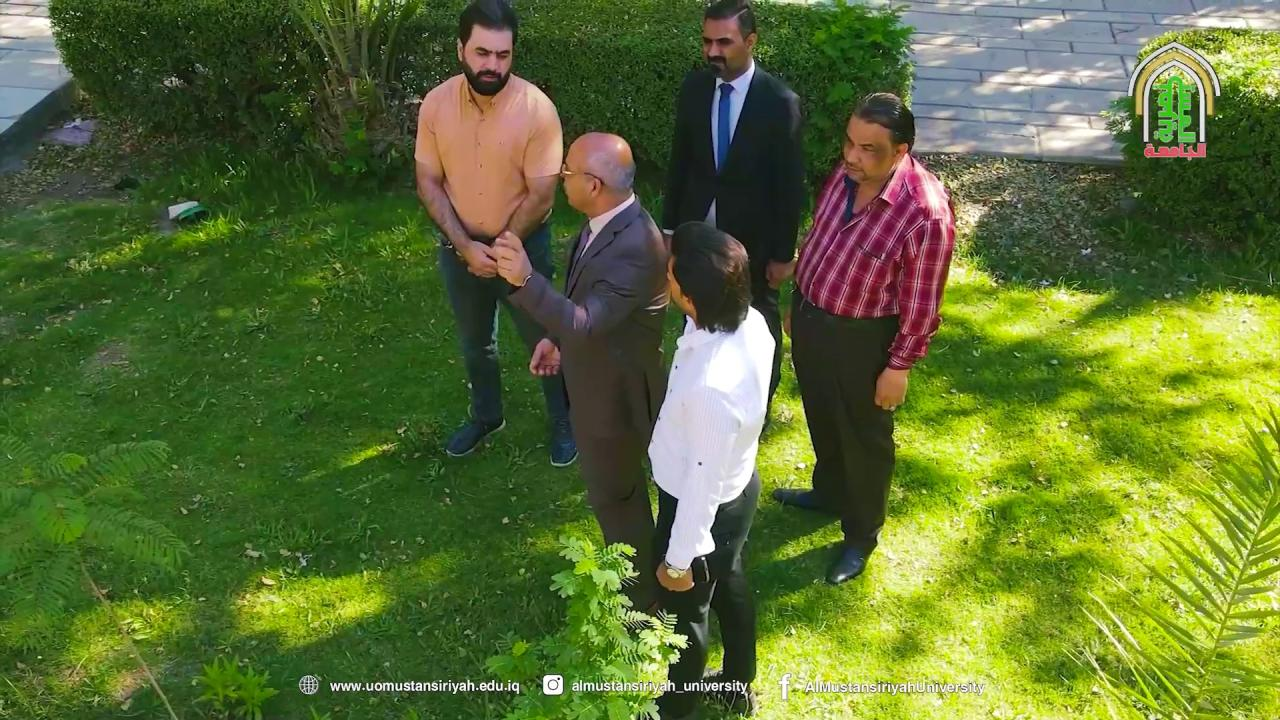person: (485, 131, 672, 632), (771, 91, 956, 585), (412, 0, 579, 467), (646, 220, 777, 719), (660, 0, 804, 443)
tree: (46, 0, 431, 183), (1062, 398, 1279, 718), (745, 0, 917, 245), (0, 432, 190, 650), (1119, 0, 1279, 257), (483, 532, 689, 718), (286, 0, 428, 179), (190, 652, 278, 719)
